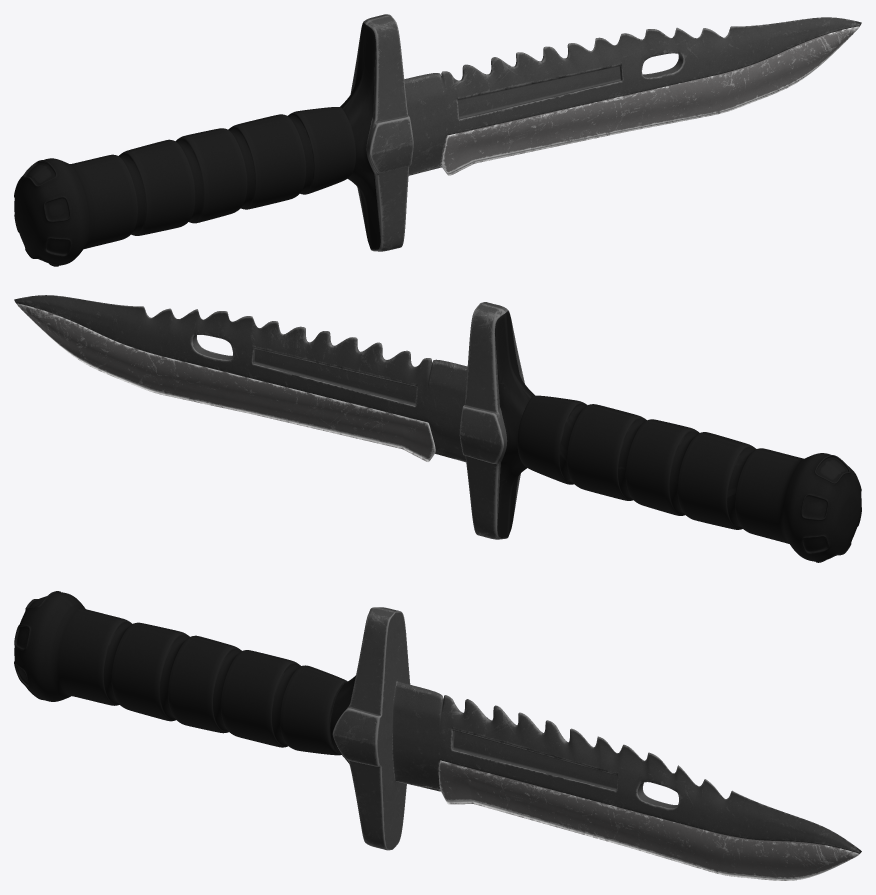
The model's file is faca.glb.
3 renders of one model, top to bottom at view 1: azimuth 30°, elevation 25°; view 2: azimuth 150°, elevation 25°; view 3: azimuth 330°, elevation 25°, orthographic. The views are drawn at different scales.
Parts seen in each view (by area): view 1: FACA_0; view 2: FACA_0; view 3: FACA_0.
Part boxes in pixels (box(x1,y1,x2,y2)): FACA_0: box(14, 14, 861, 266); FACA_0: box(14, 295, 861, 562); FACA_0: box(14, 591, 861, 880).
Bounding box in the file's own units: 6.29 × 1.66 × 0.6232.
6 materials, 6 textured.
